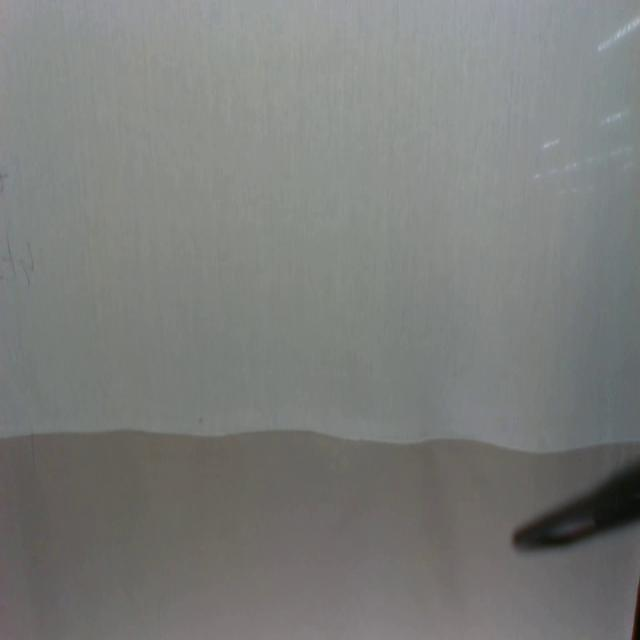crease: (30, 426, 38, 474)
hole: (198, 413, 206, 427)
